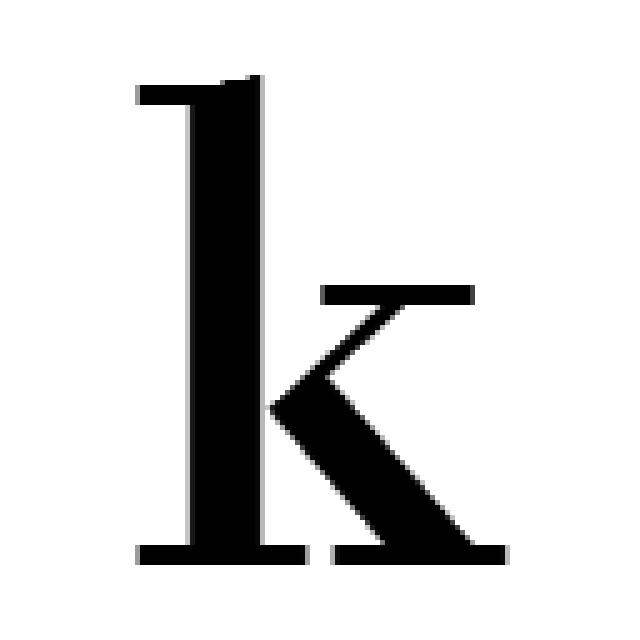K: (137, 72, 517, 560)
